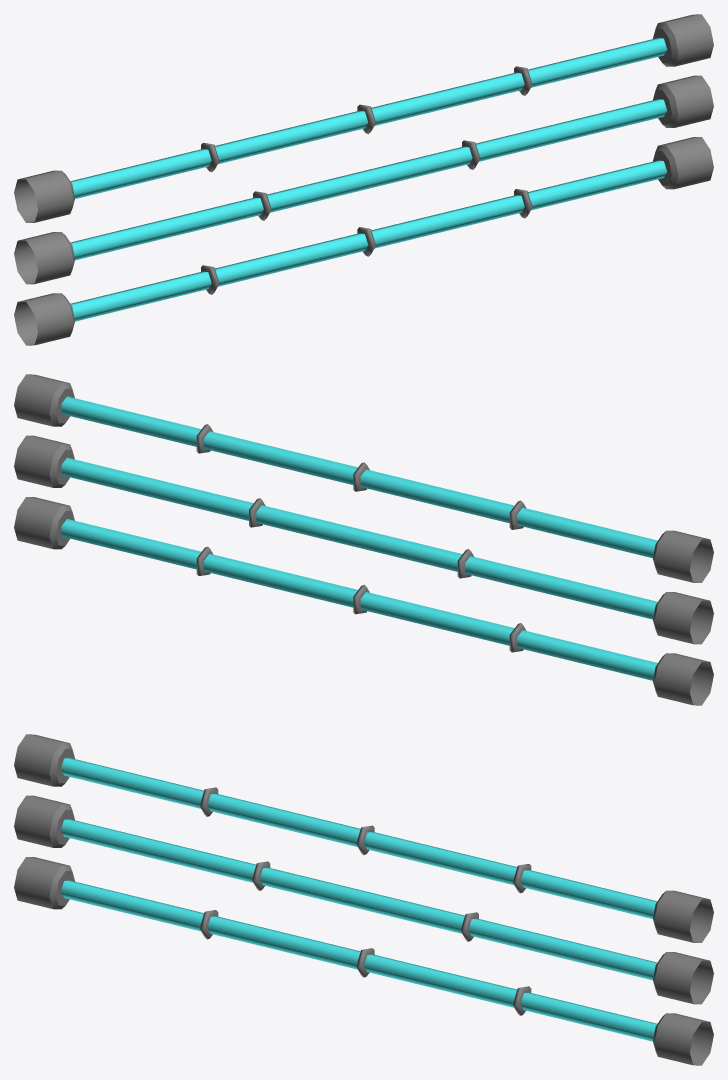
Rendered from fence_002.fbx.
The picture shows the model from 3 angles, top to bottom: view 1: azimuth 30°, elevation 25°; view 2: azimuth 150°, elevation 25°; view 3: azimuth 330°, elevation 25°; orthographic projection.
Visible parts, largest first — view 1: fence_002; view 2: fence_002; view 3: fence_002.
Part boxes in pixels (x1,y1,x2,y2): fence_002: [14, 14, 713, 345]; fence_002: [14, 374, 713, 705]; fence_002: [14, 734, 713, 1065].
Bounding box in the file's own units: 612 × 37.9 × 144.
